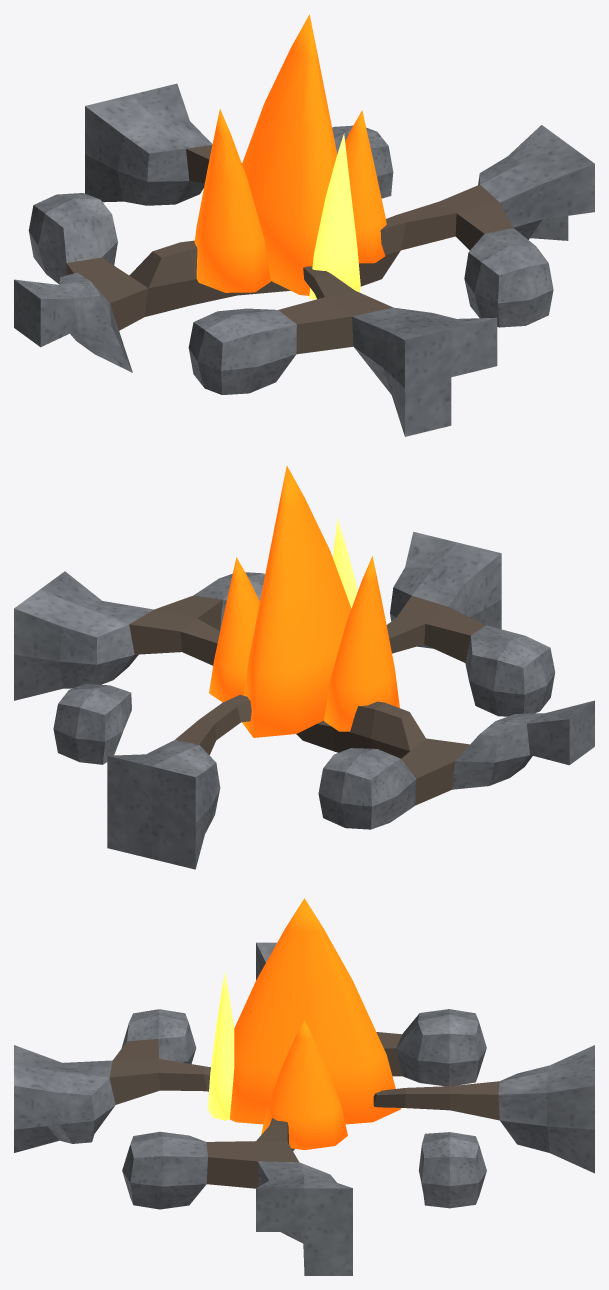
Rendered from prop_campfire.glb.
3 renders of one model, top to bottom at view 1: azimuth 30°, elevation 25°; view 2: azimuth 150°, elevation 25°; view 3: azimuth 270°, elevation 25°, orthographic. The views are drawn at different scales.
Parts seen in each view (by area): view 1: wilds_prop_campfire; view 2: wilds_prop_campfire; view 3: wilds_prop_campfire.
Boxes of the visible parts, x1,y1,x2,y2 form: wilds_prop_campfire: [14, 14, 594, 436]; wilds_prop_campfire: [14, 465, 594, 869]; wilds_prop_campfire: [14, 898, 594, 1275].
Size of the model in its own units: 0.75 by 0.375 by 0.75.
4 materials, 1 textured.
